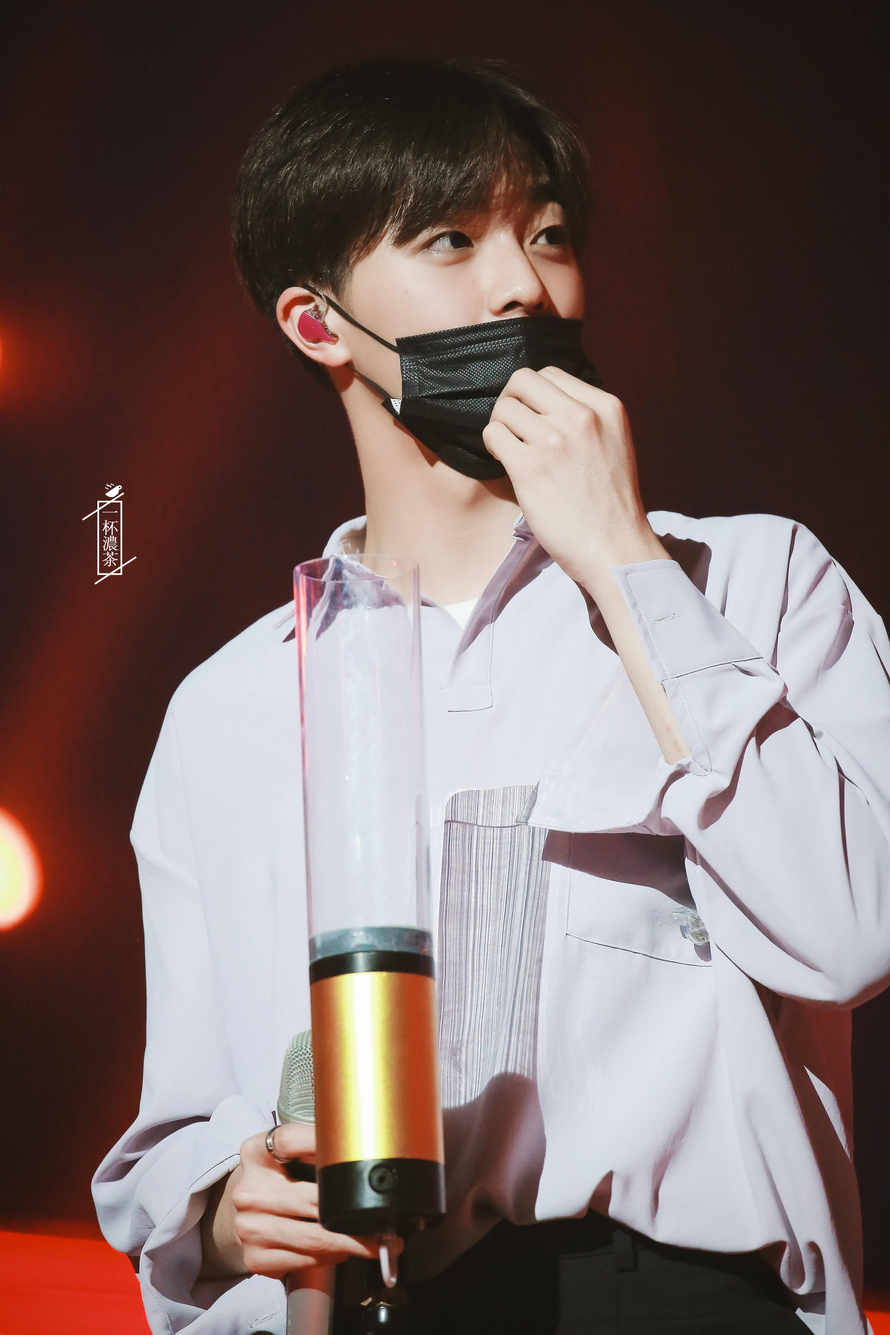WRONG: (338, 170, 589, 487)
